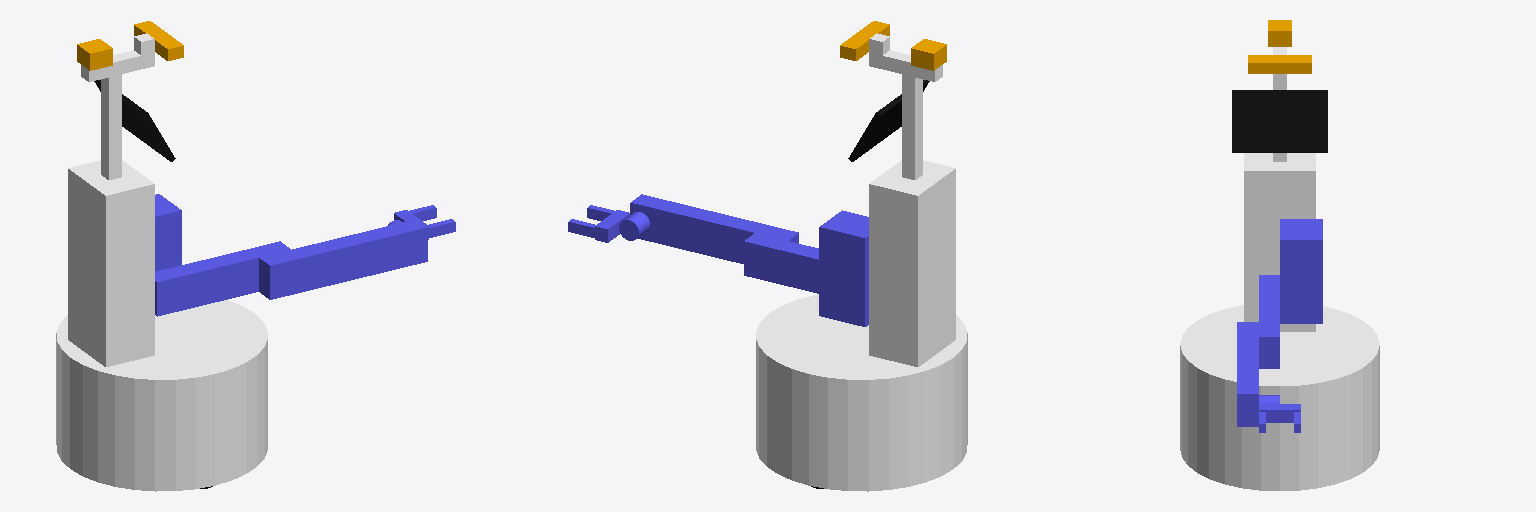
URDF robot description (korus_v3_mobile_manipulation):
<?xml version="1.0" ?>
<!-- =================================================================================== -->
<!-- |    This document was autogenerated by xacro from korus_v3_kinematics_base.urdf.xacro | -->
<!-- |    EDITING THIS FILE BY HAND IS NOT RECOMMENDED                                 | -->
<!-- =================================================================================== -->
<robot name="korus_v3_mobile_manipulation" xmlns:xacro="http://www.ros.org/wiki/xacro">
  <!-- ************************ Base model ************************* -->
  <link name="local_manip_start"/>
  <joint name="base_position_x" type="prismatic">
    <parent link="local_manip_start"/>
    <child link="base_position_x_link"/>
    <origin rpy="0 0 0" xyz="0.0 0.0 0.0"/>
    <axis xyz="1 0 0"/>
    <limit effort="10" lower="-2.0" upper="2.0" velocity="1.0"/>
  </joint>
  <link name="base_position_x_link"/>
  <joint name="base_position_y" type="prismatic">
    <parent link="base_position_x_link"/>
    <child link="base_position_y_link"/>
    <origin rpy="0 0 0" xyz="0.0 0.0 0.0"/>
    <axis xyz="0 1 0"/>
    <limit effort="10" lower="-2.0" upper="2.0" velocity="1.0"/>
  </joint>
  <link name="base_position_y_link"/>
  <joint name="base_heading" type="revolute">
    <parent link="base_position_y_link"/>
    <child link="base_link"/>
    <origin rpy="0 0 0" xyz="0.0 0.0 0.075"/>
    <axis xyz="0 0 1"/>
    <limit effort="10" lower="-3.14159265359" upper="3.14159265359" velocity="1.0"/>
  </joint>
  <link name="base_link">
    <visual>
      <origin rpy="0 0 0" xyz="0.0 0 0.0875"/>
      <geometry>
        <cylinder length="0.275" radius="0.280"/>
      </geometry>
      <material name="white">
        <color rgba="1 1 1 1"/>
      </material>
    </visual>
    <collision>
      <origin rpy="0 0 0" xyz="0.0 0 0.0875"/>
      <geometry>
        <cylinder length="0.275" radius="0.280"/>
      </geometry>
      <material name="white">
        <color rgba="1 1 1 1"/>
      </material>
    </collision>
  </link>
  <joint name="wheel_left_joint" type="fixed">
    <parent link="base_link"/>
    <child link="wheel_left_link"/>
    <origin rpy="0 0 1.57079632679" xyz="0.0 0.225 0.0"/>
  </joint>
  <link name="wheel_left_link">
    <visual>
      <geometry>
        <cylinder length="0.03" radius="0.075"/>
      </geometry>
      <origin rpy="0 1.57079632679 0" xyz="0 0 0"/>
      <material name="black">
        <color rgba="0.1 0.1 0.1 1"/>
      </material>
    </visual>
  </link>
  <joint name="wheel_right_joint" type="fixed">
    <parent link="base_link"/>
    <child link="wheel_right_link"/>
    <origin rpy="0 0 1.57079632679" xyz="0.0 -0.225 0.0"/>
  </joint>
  <link name="wheel_right_link">
    <visual>
      <geometry>
        <cylinder length="0.03" radius="0.075"/>
      </geometry>
      <origin rpy="0 1.57079632679 0" xyz="0 0 0"/>
      <material name="black">
        <color rgba="0.1 0.1 0.1 1"/>
      </material>
    </visual>
  </link>
  <joint name="caster_front_left_joint" type="fixed">
    <parent link="base_link"/>
    <child link="caster_front_left_link"/>
    <origin rpy="0 0 1.57079632679" xyz="0.18 0.1 -0.035"/>
  </joint>
  <link name="caster_front_left_link">
    <visual>
      <geometry>
        <cylinder length="0.02" radius="0.04"/>
      </geometry>
      <origin rpy="0 1.57079632679 0" xyz="0 0 0"/>
      <material name="black">
        <color rgba="0.1 0.1 0.1 1"/>
      </material>
    </visual>
  </link>
  <joint name="caster_front_right_joint" type="fixed">
    <parent link="base_link"/>
    <child link="caster_front_right_link"/>
    <origin rpy="0 0 1.57079632679" xyz="0.18 -0.1 -0.035"/>
  </joint>
  <link name="caster_front_right_link">
    <visual>
      <geometry>
        <cylinder length="0.02" radius="0.04"/>
      </geometry>
      <origin rpy="0 1.57079632679 0" xyz="0 0 0"/>
      <material name="black">
        <color rgba="0.1 0.1 0.1 1"/>
      </material>
    </visual>
  </link>
  <joint name="caster_back_left_joint" type="fixed">
    <parent link="base_link"/>
    <child link="caster_back_left_link"/>
    <origin rpy="0 0 1.57079632679" xyz="-0.18 0.1 -0.035"/>
  </joint>
  <link name="caster_back_left_link">
    <visual>
      <geometry>
        <cylinder length="0.02" radius="0.04"/>
      </geometry>
      <origin rpy="0 1.57079632679 0" xyz="0 0 0"/>
      <material name="black">
        <color rgba="0.1 0.1 0.1 1"/>
      </material>
    </visual>
  </link>
  <joint name="caster_back_right_joint" type="fixed">
    <parent link="base_link"/>
    <child link="caster_back_right_link"/>
    <origin rpy="0 0 1.57079632679" xyz="-0.18 -0.1 -0.035"/>
  </joint>
  <link name="caster_back_right_link">
    <visual>
      <geometry>
        <cylinder length="0.02" radius="0.04"/>
      </geometry>
      <origin rpy="0 1.57079632679 0" xyz="0 0 0"/>
      <material name="black">
        <color rgba="0.1 0.1 0.1 1"/>
      </material>
    </visual>
  </link>
  <!-- ************************ Body model ************************* -->
  <joint name="torso_turn" type="revolute">
    <parent link="base_link"/>
    <child link="torso_link"/>
    <origin rpy="0 0 0" xyz="0.0 0.0 0.250"/>
    <axis xyz="0 0 1"/>
    <limit effort="205.0" lower="-3.2463124087" upper="2.79252680318" velocity="1.54810704652"/>
  </joint>
  <link name="torso_link">
    <visual>
      <origin rpy="0 0 0" xyz="0.0 0.0 0.0"/>
      <geometry>
        <cylinder length="0.050" radius="0.280"/>
      </geometry>
      <material name="white">
        <color rgba="1 1 1 1"/>
      </material>
    </visual>
    <collision>
      <origin rpy="0 0 0" xyz="0.0 0.0 0.0"/>
      <geometry>
        <cylinder length="0.050" radius="0.280"/>
      </geometry>
      <material name="white">
        <color rgba="1 1 1 1"/>
      </material>
    </collision>
  </link>
  <joint name="turret_offset" type="fixed">
    <parent link="torso_link"/>
    <child link="turret_offset_link"/>
    <origin rpy="0 0 0" xyz="-0.155 0.0 0.025"/>
  </joint>
  <link name="turret_offset_link">
    <visual>
      <geometry>
        <box size="0.15 0.20 0.5"/>
      </geometry>
      <origin rpy="0 0 0" xyz="0.0 0 0.25"/>
      <material name="white">
        <color rgba="1 1 1 1"/>
      </material>
    </visual>
    <collision>
      <geometry>
        <box size="0.15 0.20 0.5"/>
      </geometry>
      <origin rpy="0 0 0" xyz="0 0 0.25"/>
    </collision>
  </link>
  <joint name="torso_lift_offset" type="fixed">
    <parent link="turret_offset_link"/>
    <child link="torso_lift_offset_link"/>
    <origin rpy="0 0 0" xyz="0 0 0.22"/>
  </joint>
  <link name="torso_lift_offset_link"/>
  <joint name="torso_lift" type="prismatic">
    <parent link="torso_lift_offset_link"/>
    <child link="torso_lift_link"/>
    <origin rpy="0 0 3.14159265359" xyz="0 0 0"/>
    <axis xyz="0 0 1"/>
    <!-- 	    <limit lower="-0.07" upper="0.13" velocity="0.5"/> -->
    <limit effort="26.0" lower="0.0" upper="0.180" velocity="0.038"/>
  </joint>
  <link name="torso_lift_link"/>
  <joint name="neck" type="fixed">
    <parent link="turret_offset_link"/>
    <child link="neck_link"/>
    <origin rpy="0 0 0" xyz="0.0 0.0 0.5"/>
  </joint>
  <link name="neck_link">
    <visual>
      <geometry>
        <box size="0.04 0.04 0.30"/>
      </geometry>
      <origin rpy="0 0 0" xyz="0.0 0.0 0.15"/>
      <material name="white">
        <color rgba="1 1 1 1"/>
      </material>
    </visual>
    <collision>
      <geometry>
        <box size="0.04 0.04 0.30"/>
      </geometry>
      <origin rpy="0 0 0" xyz="0.0 0.0 0.15"/>
      <material name="white">
        <color rgba="1 1 1 1"/>
      </material>
    </collision>
  </link>
  <joint name="tablet" type="fixed">
    <parent link="neck_link"/>
    <child link="tablet_link"/>
    <origin rpy="0 0 0" xyz="0.02 0.0 0.15"/>
  </joint>
  <link name="tablet_link">
    <visual>
      <geometry>
        <box size="0.015 0.270 0.175"/>
      </geometry>
      <origin rpy="0.0 -0.5 0.0" xyz="0.05 0.0 0.0"/>
      <material name="black">
        <color rgba="0.1 0.1 0.1 1"/>
      </material>
    </visual>
    <collision>
      <geometry>
        <box size="0.015 0.270 0.175"/>
      </geometry>
      <origin rpy="0.0 -0.5 0.0" xyz="0.05 0.0 0.0"/>
      <material name="black">
        <color rgba="0.1 0.1 0.1 1"/>
      </material>
    </collision>
  </link>
  <joint name="head" type="fixed">
    <parent link="neck_link"/>
    <child link="head_link"/>
    <origin rpy="0 0 0" xyz="0.0 0.0 0.3"/>
  </joint>
  <link name="head_link">
    <visual>
      <geometry>
        <box size="0.20 0.04 0.04"/>
      </geometry>
      <origin rpy="0.0 0.0 0.0" xyz="0.02 0.0 0.02"/>
      <material name="white">
        <color rgba="1 1 1 1"/>
      </material>
    </visual>
    <collision>
      <geometry>
        <box size="0.20 0.04 0.04"/>
      </geometry>
      <origin rpy="0.0 0.0 0.0" xyz="0.02 0.0 0.02"/>
      <material name="white">
        <color rgba="1 1 1 1"/>
      </material>
    </collision>
  </link>
  <joint name="head_pan" type="revolute">
    <parent link="head_link"/>
    <child link="head_pan_link"/>
    <origin rpy="0 0 0" xyz="0.10 0.0 0.04"/>
    <axis xyz="0 0 1"/>
    <!--       <limit lower="-${3*pi/4}" upper="${3*pi/4}" velocity="1.0"/> -->
    <limit effort="9.0" lower="-2.39110107523" upper="2.39110107523" velocity="8.30776723947"/>
  </joint>
  <link name="head_pan_link">
    <visual>
      <geometry>
        <box size="0.04 0.04 0.04"/>
      </geometry>
      <origin rpy="0.0 0.0 0.0" xyz="0.0 0.0 0.02"/>
      <material name="white">
        <color rgba="1 1 1 1"/>
      </material>
    </visual>
    <collision>
      <geometry>
        <box size="0.04 0.04 0.04"/>
      </geometry>
      <origin rpy="0.0 0.0 0.0" xyz="0.0 0.0 0.02"/>
      <material name="white">
        <color rgba="1 1 1 1"/>
      </material>
    </collision>
  </link>
  <joint name="head_tilt" type="revolute">
    <parent link="head_pan_link"/>
    <child link="head_tilt_link"/>
    <origin rpy="1.57079632679 0 0" xyz="0.02 0.0 0.02"/>
    <axis xyz="0 0 1"/>
    <!--       <limit lower="-${pi/2}" upper="${(30/180)*pi}" velocity="1.0"/> -->
    <limit effort="9.0" lower="-1.60570291183" upper="0.558505360637" velocity="8.30776723947"/>
  </joint>
  <link name="head_tilt_link">
    <visual>
      <geometry>
        <box size="0.05 0.035 0.18"/>
      </geometry>
      <origin rpy="0 0 0" xyz="0.025 0.0 0.0"/>
      <material name="orange">
        <color rgba="1.0 0.7 0.0 1"/>
      </material>
    </visual>
    <collision>
      <geometry>
        <box size="0.05 0.035 0.18"/>
      </geometry>
      <origin rpy="0 0 0" xyz="0.025 0.0 0.0"/>
      <material name="orange">
        <color rgba="1.0 0.7 0.0 1"/>
      </material>
    </collision>
  </link>
  <joint name="stargazer" type="fixed">
    <parent link="head_link"/>
    <child link="stargazer_link"/>
    <origin rpy="0 0 0" xyz="-0.05 0.0 0.04"/>
  </joint>
  <link name="stargazer_link">
    <visual>
      <geometry>
        <box size="0.07 0.07 0.05"/>
      </geometry>
      <origin rpy="0.0 0.0 0.0" xyz="0.0 0.0 0.025"/>
      <material name="orange">
        <color rgba="1.0 0.7 0.0 1"/>
      </material>
    </visual>
    <collision>
      <geometry>
        <box size="0.07 0.07 0.05"/>
      </geometry>
      <origin rpy="0.0 0.0 0.0" xyz="0.0 0.0 0.025"/>
      <material name="orange">
        <color rgba="1.0 0.7 0.0 1"/>
      </material>
    </collision>
  </link>
  <!-- ************************ Arm model ************************* -->
  <joint name="arm_mount" type="fixed">
    <parent link="torso_lift_link"/>
    <child link="shoulder_link"/>
    <origin rpy="0 0 0" xyz="-0.075 -0.06 0"/>
  </joint>
  <link name="shoulder_link">
    <visual>
      <geometry>
        <box size="0.14 0.12 0.26"/>
      </geometry>
      <origin rpy="0 0 0" xyz="-0.07 0.0 0.0"/>
      <material name="grey_blue">
        <color rgba="0.4 0.4 1.0 1"/>
      </material>
    </visual>
  </link>
  <joint name="shoulder" type="revolute">
    <parent link="shoulder_link"/>
    <child link="upper_arm_link"/>
    <origin rpy="-1.57079632679 -3.14159265359 0.0" xyz="-0.08 0.06 -0.08"/>
    <axis xyz="0 0 1"/>
    <!-- 	    <limit lower="-${3*pi/2}" upper="0.0" velocity="0.013"/> -->
    <limit effort="250.0" lower="-1.22173047639" upper="1.60570291183" velocity="1.27409035395"/>
  </joint>
  <link name="upper_arm_link">
    <visual>
      <geometry>
        <box size="0.41 0.10 0.06"/>
      </geometry>
      <origin rpy="0 0 0" xyz="0.155 0.0 0.03"/>
      <material name="grey_blue">
        <color rgba="0.4 0.4 1.0 1"/>
      </material>
    </visual>
  </link>
  <joint name="elbow" type="revolute">
    <parent link="upper_arm_link"/>
    <child link="lower_arm_link"/>
    <origin rpy="0 0 0" xyz="0.31 0.0 0.06"/>
    <axis xyz="0 0 1"/>
    <!-- 	    <limit lower="0.0" upper="${3*pi/2}" velocity="0.013"/> -->
    <limit effort="200.0" lower="-3.49065850398" upper="1.60570291183" velocity="1.58824961931"/>
  </joint>
  <link name="lower_arm_link">
    <visual>
      <geometry>
        <box size="0.48 0.10 0.06"/>
      </geometry>
      <origin rpy="0 0 0" xyz="0.19 0.00 0.03"/>
      <material name="grey_blue">
        <color rgba="0.4 0.4 1.0 1"/>
      </material>
    </visual>
  </link>
  <joint name="wrist" type="revolute">
    <parent link="lower_arm_link"/>
    <child link="wrist_link"/>
    <origin rpy="0 0 0" xyz="0.40 0.0 0.0"/>
    <axis xyz="0 0 1"/>
    <!-- 	    <limit lower="-${pi}" upper="${pi}" velocity="0.013"/> -->
    <limit effort="51.0" lower="-1.74532925199" upper="1.74532925199" velocity="1.26536370769"/>
  </joint>
  <link name="wrist_link">
    <visual>
      <geometry>
        <cylinder length="0.06" radius="0.03"/>
      </geometry>
      <origin rpy="0 0 0" xyz="0.0 0.0 -0.03"/>
      <material name="grey_blue">
        <color rgba="0.4 0.4 1.0 1"/>
      </material>
    </visual>
  </link>
  <joint name="gripper_fix" type="fixed">
    <parent link="wrist_link"/>
    <child link="gripper_link"/>
    <origin rpy="0.0 0.0 0.0" xyz="0.05 0  -0.06"/>
    <axis xyz="0 0 1"/>
    <limit effort="33.4" lower="-1.6232" upper="1.6232" velocity="0.5"/>
  </joint>
  <link name="gripper_link">
    <visual>
      <geometry>
        <box size="0.04 0.04 0.12"/>
      </geometry>
      <origin rpy="0 0 0" xyz="0.0 0.0 0.0"/>
      <material name="grey_blue">
        <color rgba="0.4 0.4 1.0 1"/>
      </material>
    </visual>
  </link>
  <joint name="gripper" type="prismatic">
    <parent link="gripper_link"/>
    <child link="gripper_left_finger_tip_link"/>
    <origin rpy="0.0 0.0 0.0" xyz="0.02 0.0 -0.05"/>
    <axis xyz="0 1 0"/>
    <!-- 	    <limit lower="0.0" upper="0.04" velocity="0.5"/> -->
    <limit effort="33.4" lower="0.0" upper="0.055" velocity="0.055"/>
    <!-- min -2 ~ 78 deg, 80.8 deg/s -->
  </joint>
  <link name="gripper_left_finger_tip_link">
    <visual>
      <geometry>
        <box size="0.08 0.03 0.02"/>
      </geometry>
      <origin rpy="0 0 0" xyz="0.04 0.0 0.0"/>
      <material name="grey_blue">
        <color rgba="0.4 0.4 1.0 1"/>
      </material>
    </visual>
  </link>
  <joint name="gripper_right_finger_joint" type="fixed">
    <parent link="gripper_link"/>
    <child link="gripper_right_finger_tip_link"/>
    <origin rpy="3.14159265359 0.0 0.0" xyz="0.02 0.0 0.05"/>
    <axis xyz="0 1 0"/>
    <!-- 	    <limit lower="0.0" upper="0.04" velocity="0.5"/> -->
    <limit effort="33.4" lower="0.0" upper="0.055" velocity="0.055"/>
    <!-- min -2 ~ 78 deg, 80.8 deg/s -->
  </joint>
  <link name="gripper_right_finger_tip_link">
    <visual>
      <geometry>
        <box size="0.08 0.03 0.02"/>
      </geometry>
      <origin rpy="0 0 0" xyz="0.04 0.0 0.0"/>
      <material name="grey_blue">
        <color rgba="0.4 0.4 1.0 1"/>
      </material>
    </visual>
  </link>
  <joint name="gripper_center_joint" type="fixed">
    <parent link="gripper_link"/>
    <child link="gripper_center_link"/>
    <origin rpy="0 0 0" xyz="0.10 0 0"/>
  </joint>
  <link name="gripper_center_link">
    <!--       <visual> -->
    <!--         <geometry> -->
    <!--           <box size="0.10 0.15 0.10"/> -->
    <!--         </geometry> -->
    <!--         <origin xyz="0.0 0.0 0.0" rpy="0 0 0"/> -->
    <!--         <xacro:insert_block name="material_orange" /> -->
    <!--       </visual>    -->
  </link>
</robot>

--- What the picture shows (computed from the rendered views, not written in the file) ---
3 views of the same robot in one strip: view 1: azimuth 30°, elevation 25°; view 2: azimuth 150°, elevation 25°; view 3: azimuth 270°, elevation 25° (orthographic).
Model korus_v3_mobile_manipulation with 28 links and 27 joints (7 revolute, 4 prismatic, 16 fixed), rooted at local_manip_start, posed every joint at zero.
Visible links, largest first — view 1: base_link, turret_offset_link, torso_link, lower_arm_link, upper_arm_link, neck_link, shoulder_link, tablet_link, head_link, head_tilt_link, stargazer_link; view 2: base_link, turret_offset_link, torso_link, lower_arm_link, shoulder_link, upper_arm_link, neck_link, tablet_link, head_link, head_tilt_link, stargazer_link, gripper_link (+1 smaller); view 3: base_link, torso_link, turret_offset_link, tablet_link, shoulder_link, lower_arm_link, upper_arm_link, head_tilt_link, stargazer_link, gripper_link.
Link boxes in pixels (x1,y1,x2,y2): base_link: (56, 351, 267, 491); turret_offset_link: (68, 160, 154, 366); torso_link: (56, 300, 267, 396); lower_arm_link: (259, 219, 427, 299); upper_arm_link: (155, 241, 290, 316); neck_link: (101, 74, 121, 179); shoulder_link: (155, 194, 181, 271); tablet_link: (94, 80, 175, 161); head_link: (81, 50, 154, 81); head_tilt_link: (134, 21, 183, 60); stargazer_link: (77, 39, 112, 70); base_link: (756, 351, 967, 491); turret_offset_link: (869, 160, 955, 366); torso_link: (756, 295, 967, 396); lower_arm_link: (630, 194, 798, 263); shoulder_link: (819, 210, 868, 326); upper_arm_link: (744, 233, 818, 293); neck_link: (902, 74, 922, 179); tablet_link: (848, 80, 929, 161); head_link: (869, 50, 942, 81); head_tilt_link: (840, 21, 889, 60); stargazer_link: (911, 39, 946, 70); gripper_link: (595, 210, 629, 242); base_link: (1180, 362, 1379, 490); torso_link: (1180, 305, 1379, 402); turret_offset_link: (1244, 153, 1315, 331); tablet_link: (1232, 90, 1327, 152); shoulder_link: (1280, 219, 1322, 323); lower_arm_link: (1237, 322, 1258, 426); upper_arm_link: (1259, 275, 1279, 368); head_tilt_link: (1248, 55, 1311, 73); stargazer_link: (1268, 20, 1291, 46); gripper_link: (1259, 404, 1300, 422).
Size in the robot's own frame: 1.14 by 0.56 by 1.24 metres.
Geometry: primitives only (box / cylinder / sphere), no mesh files.